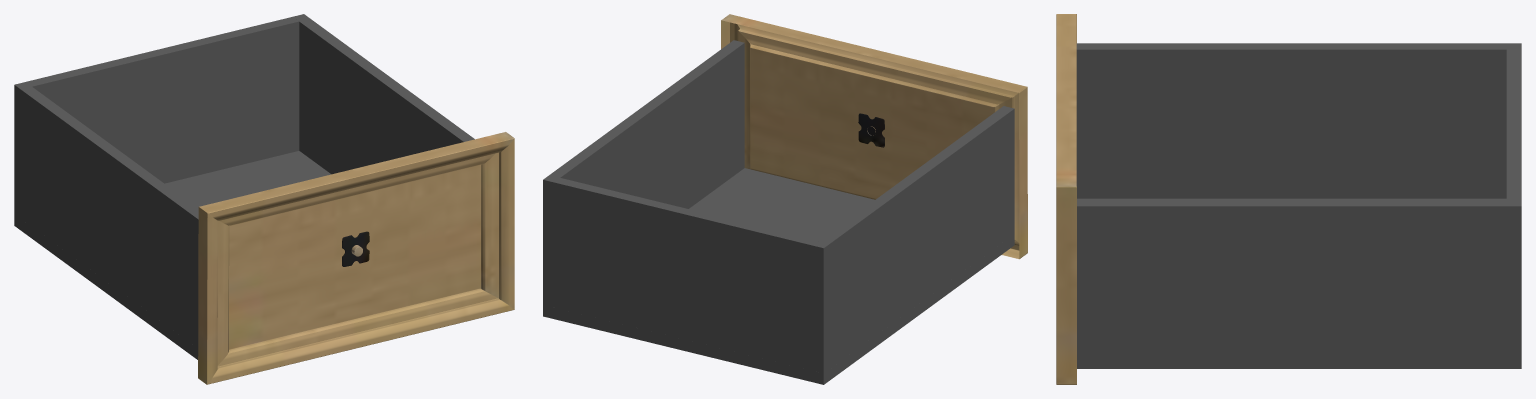
File: drawer-1.glb
3 views of the same model, side by side, from view 1: azimuth 30°, elevation 25°; view 2: azimuth 150°, elevation 25°; view 3: azimuth 270°, elevation 25° (orthographic). The views are drawn at different scales.
Parts seen in each view (by area): view 1: world; view 2: world; view 3: world.
Part boxes in pixels (left/top/right/bottom): world: left=14, top=14, right=514, bottom=384; world: left=543, top=14, right=1027, bottom=384; world: left=1056, top=14, right=1521, bottom=384.
Bounding box in the file's own units: 0.3407 × 0.1817 × 0.3869.
Materials: 2 (1 with a texture image).
